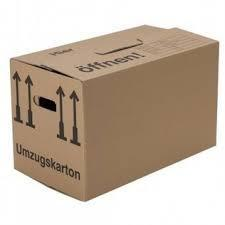box: (10, 24, 220, 201)
